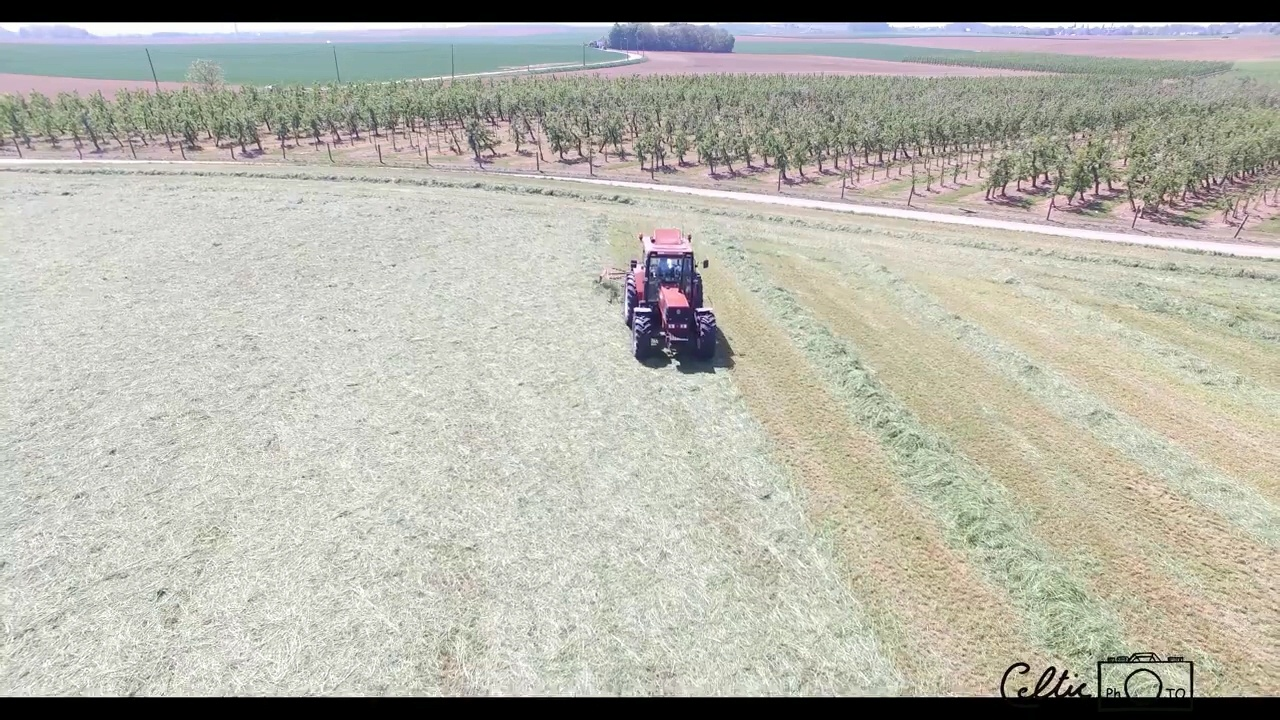traktor: (621, 226, 720, 360)
